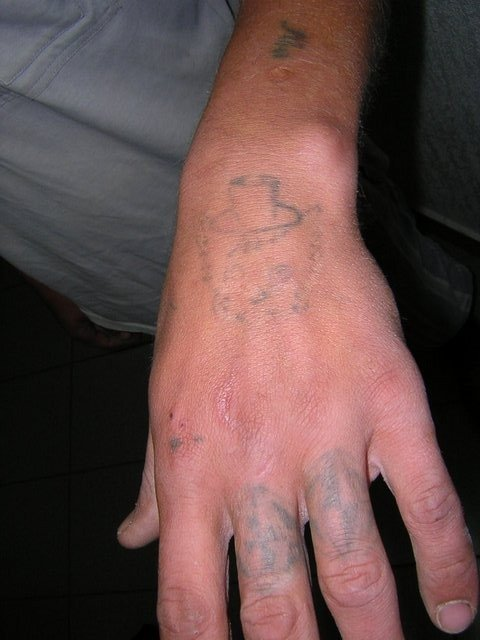tatu8_kot: (186, 163, 331, 317)
